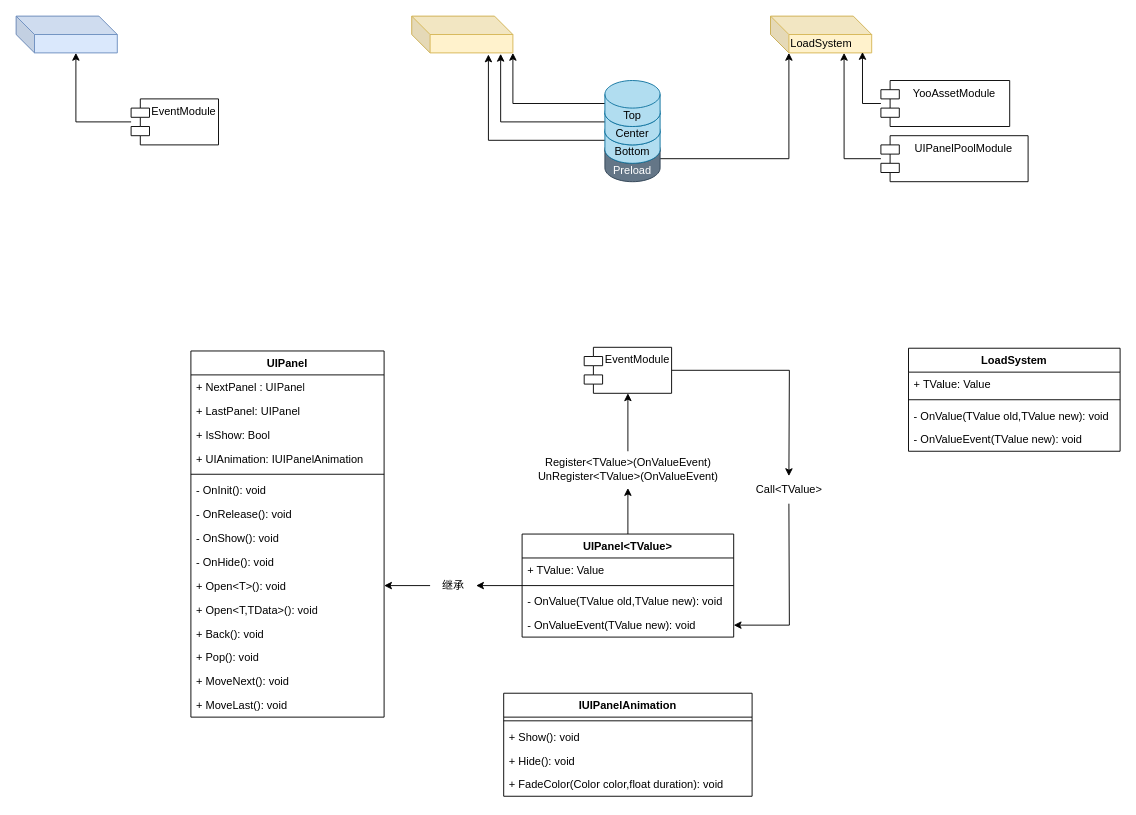
Some shapes in this 1136 by 815 pixel diagram are drawn without their labels. Each missing label, with the centre of its shape:
LevelSystem: the point at 462,34
UISystem: the point at 66,34
